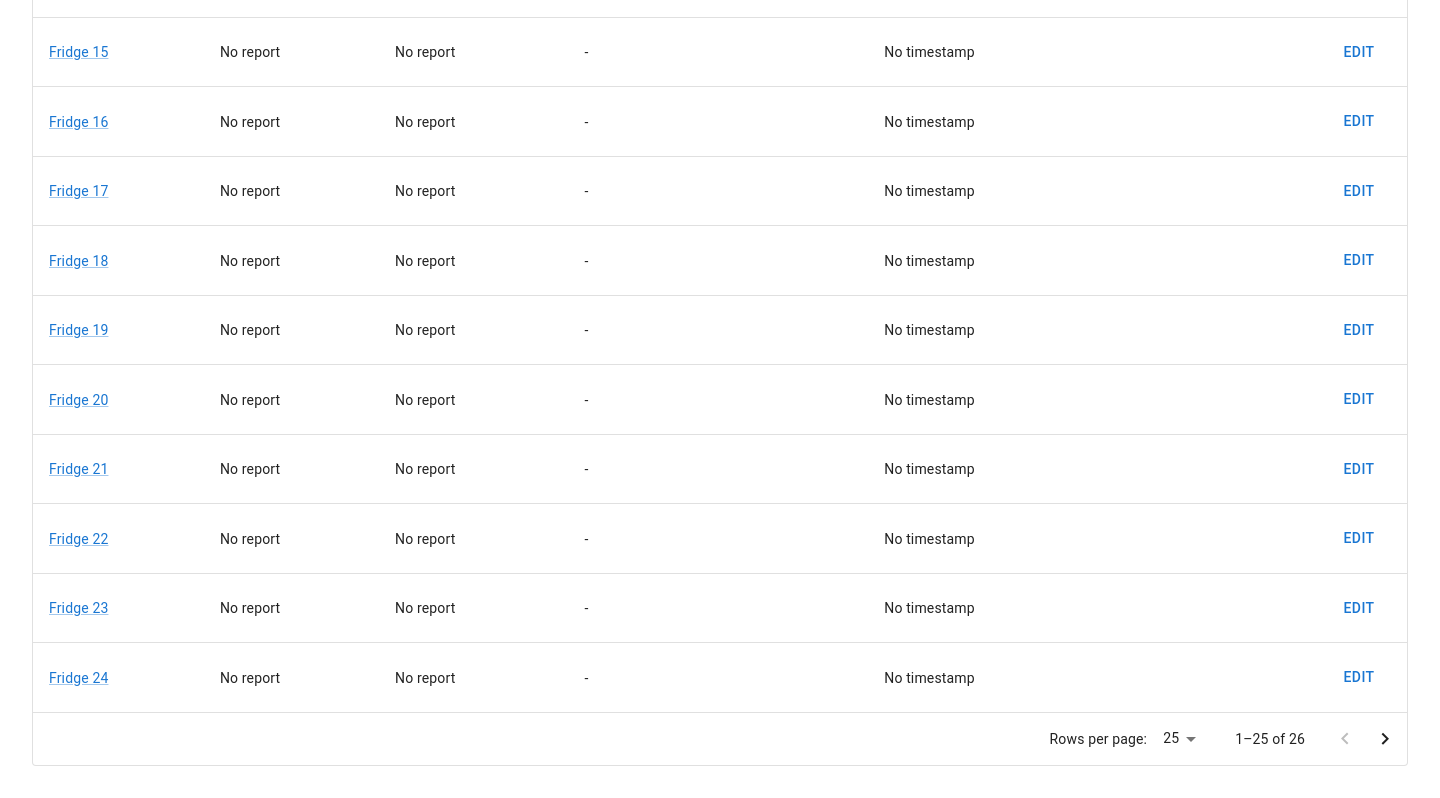
Scenario: AdminFridgesPage › paginates all returned fridges and resets the page when page size changes
The image size is (1440, 798).
(page scrolled)
Check: the link "Fridge 25" is not shown
Click the button named "Go to next page". click: {"x": 1385, "y": 739}
box: [1365,719,1405,759]
(page scrolled)
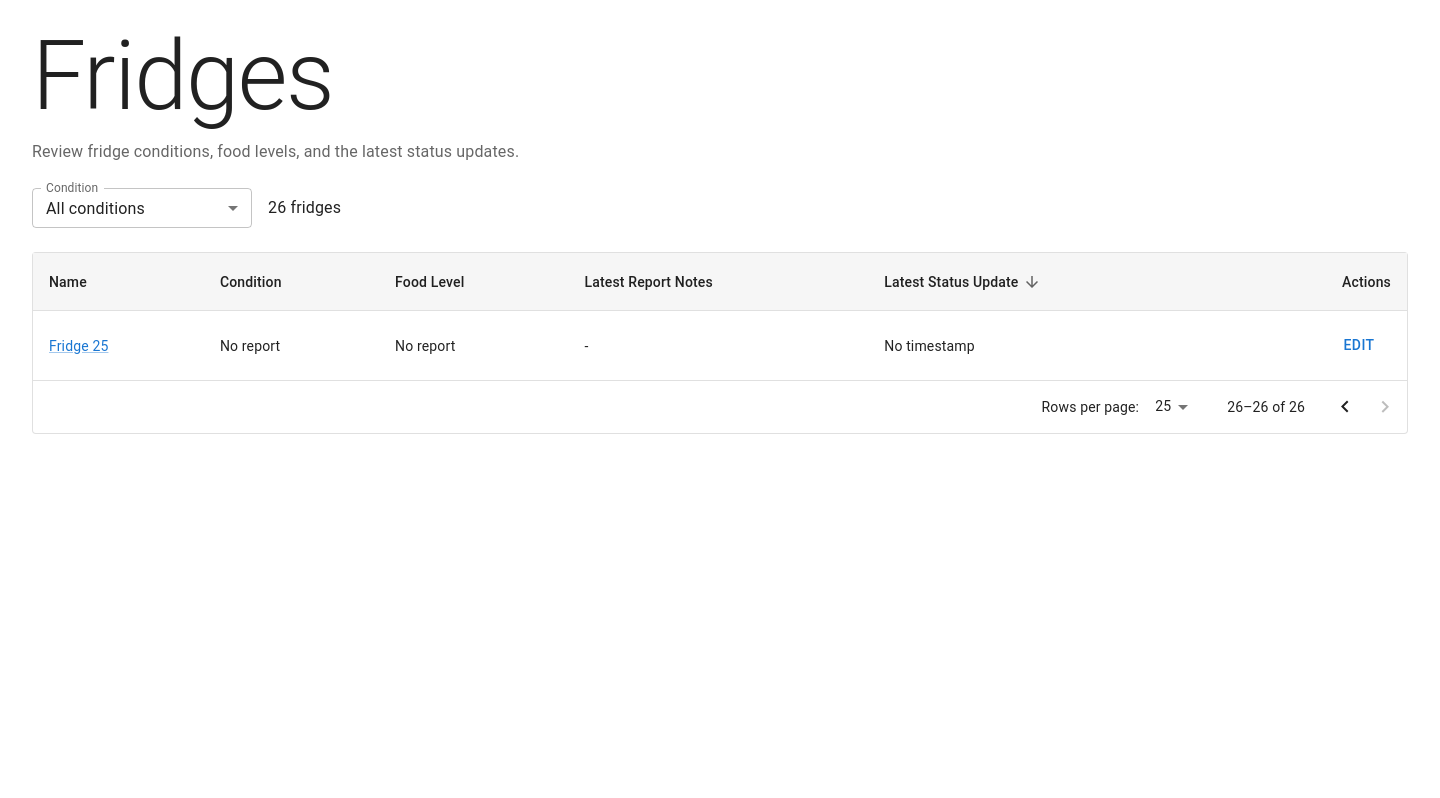
Check: the number of links is 1, box [49,338,108,354]
Press the mouse on the dropdown named "Rows per page:" at {"x": 1163, "y": 406}, box [1155,398,1171,414]
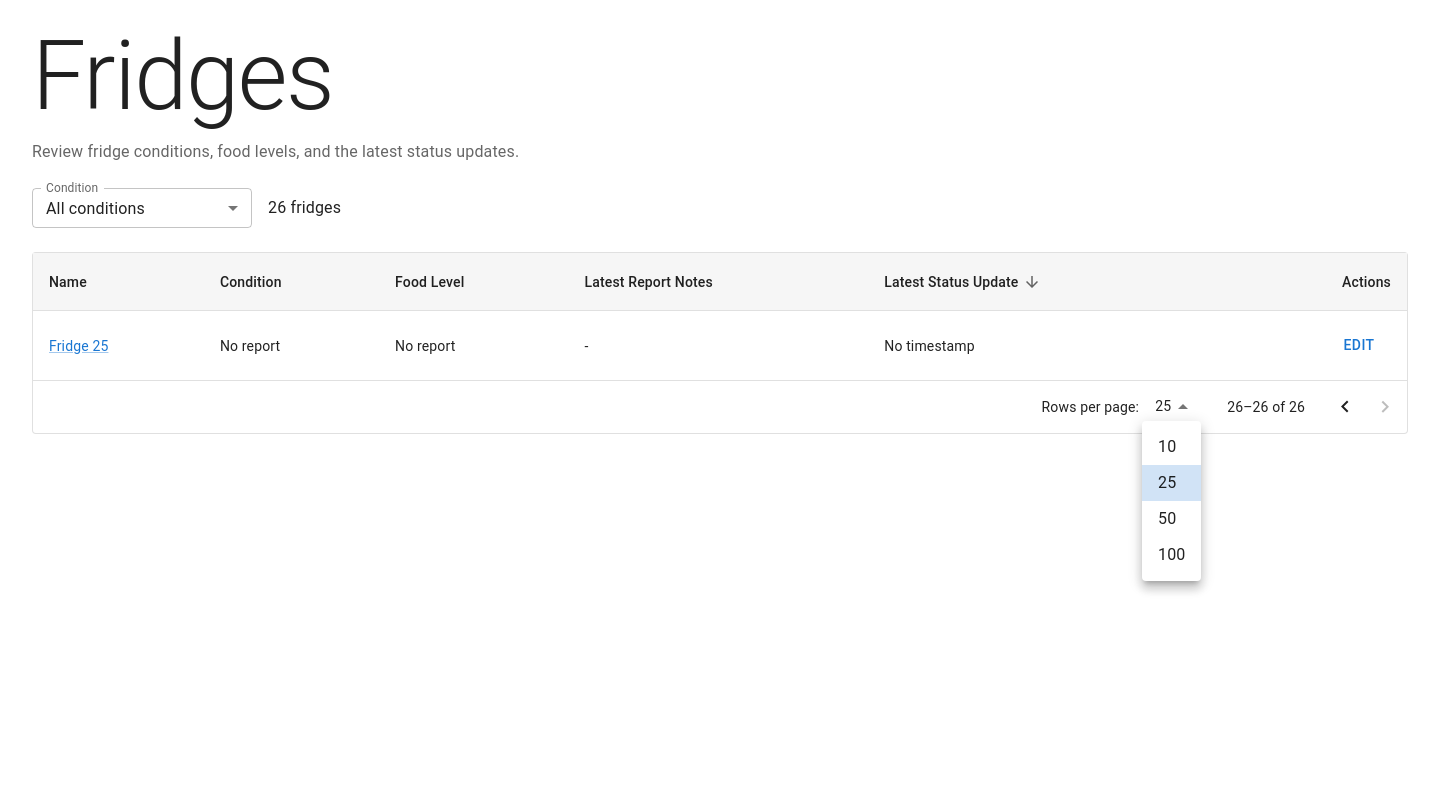
Click the option "50". click: {"x": 1167, "y": 518}
box: [1158,509,1176,528]
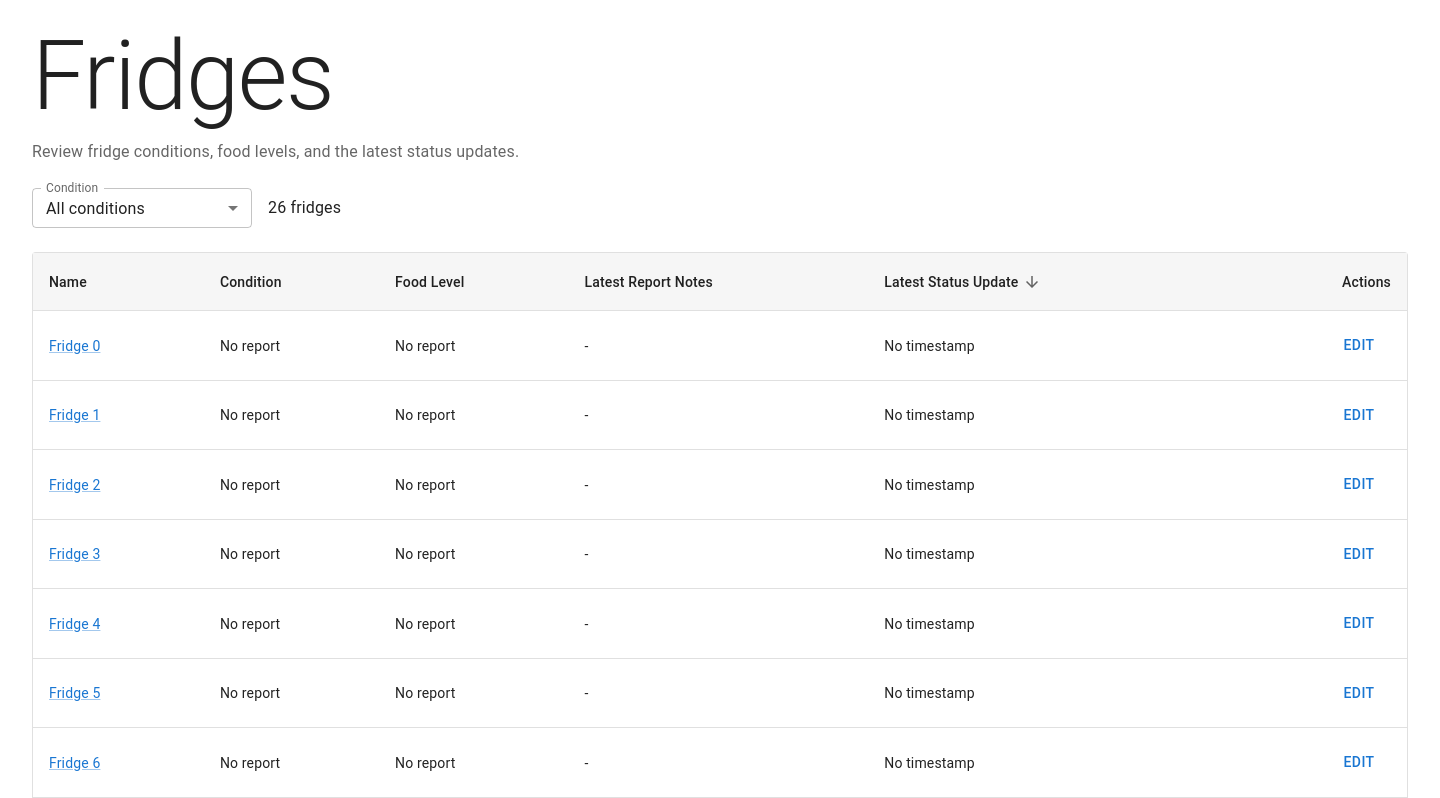
Check: the number of links is 26
Check: the link "Fridge 0" is shown, box [49,338,100,354]
